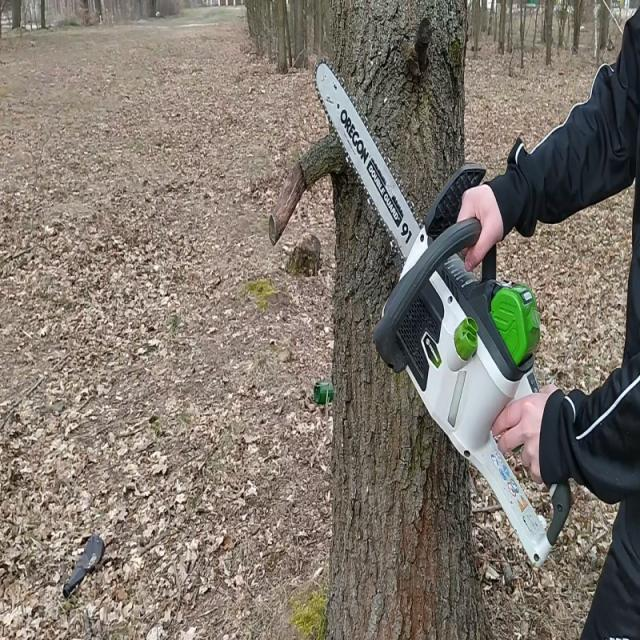Chainsaw: (307, 52, 583, 575)
